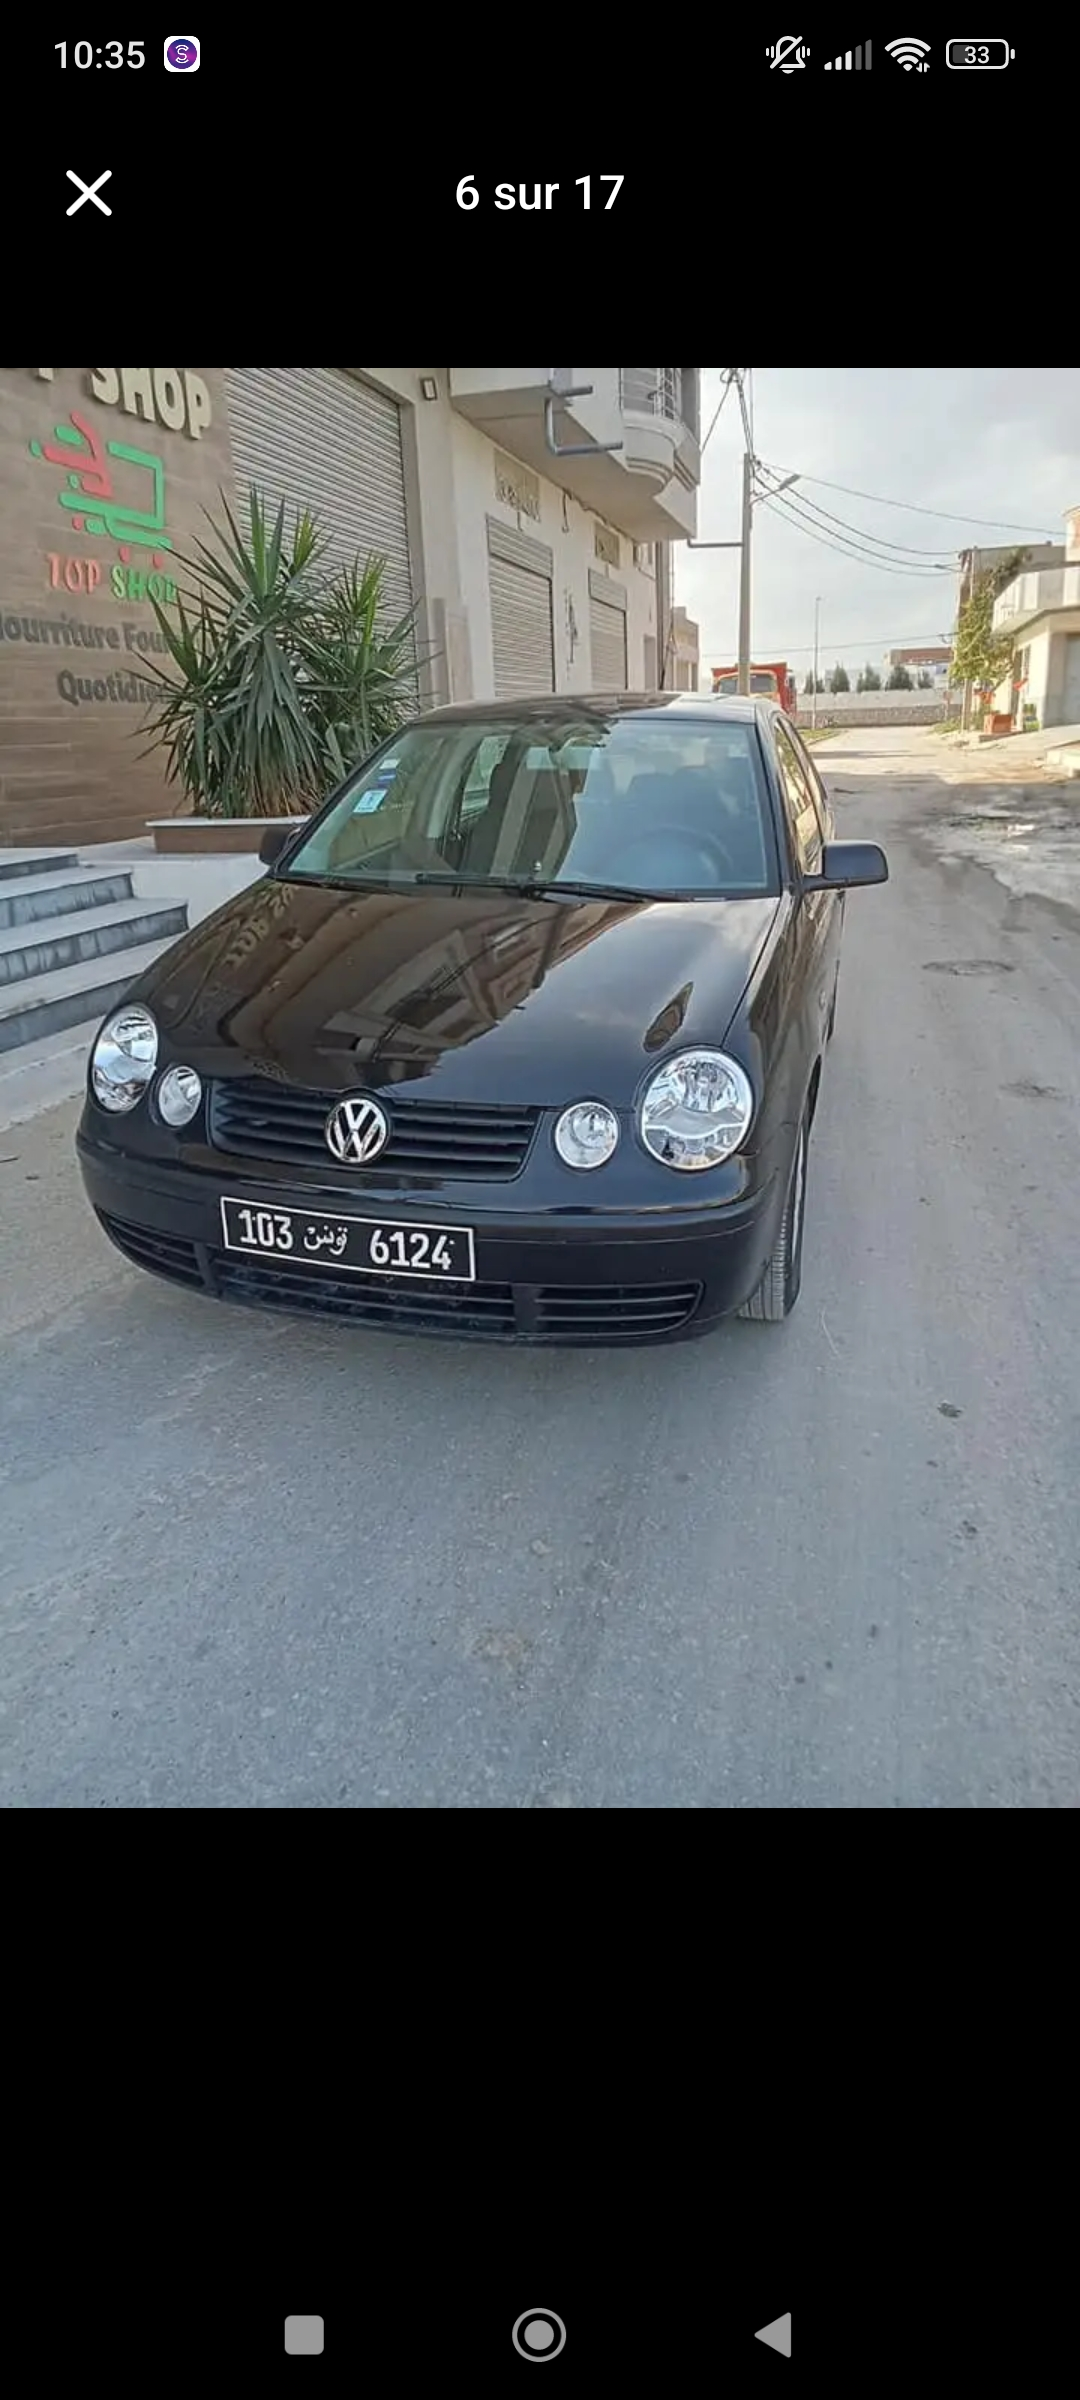peugoet: (72, 672, 935, 1397)
